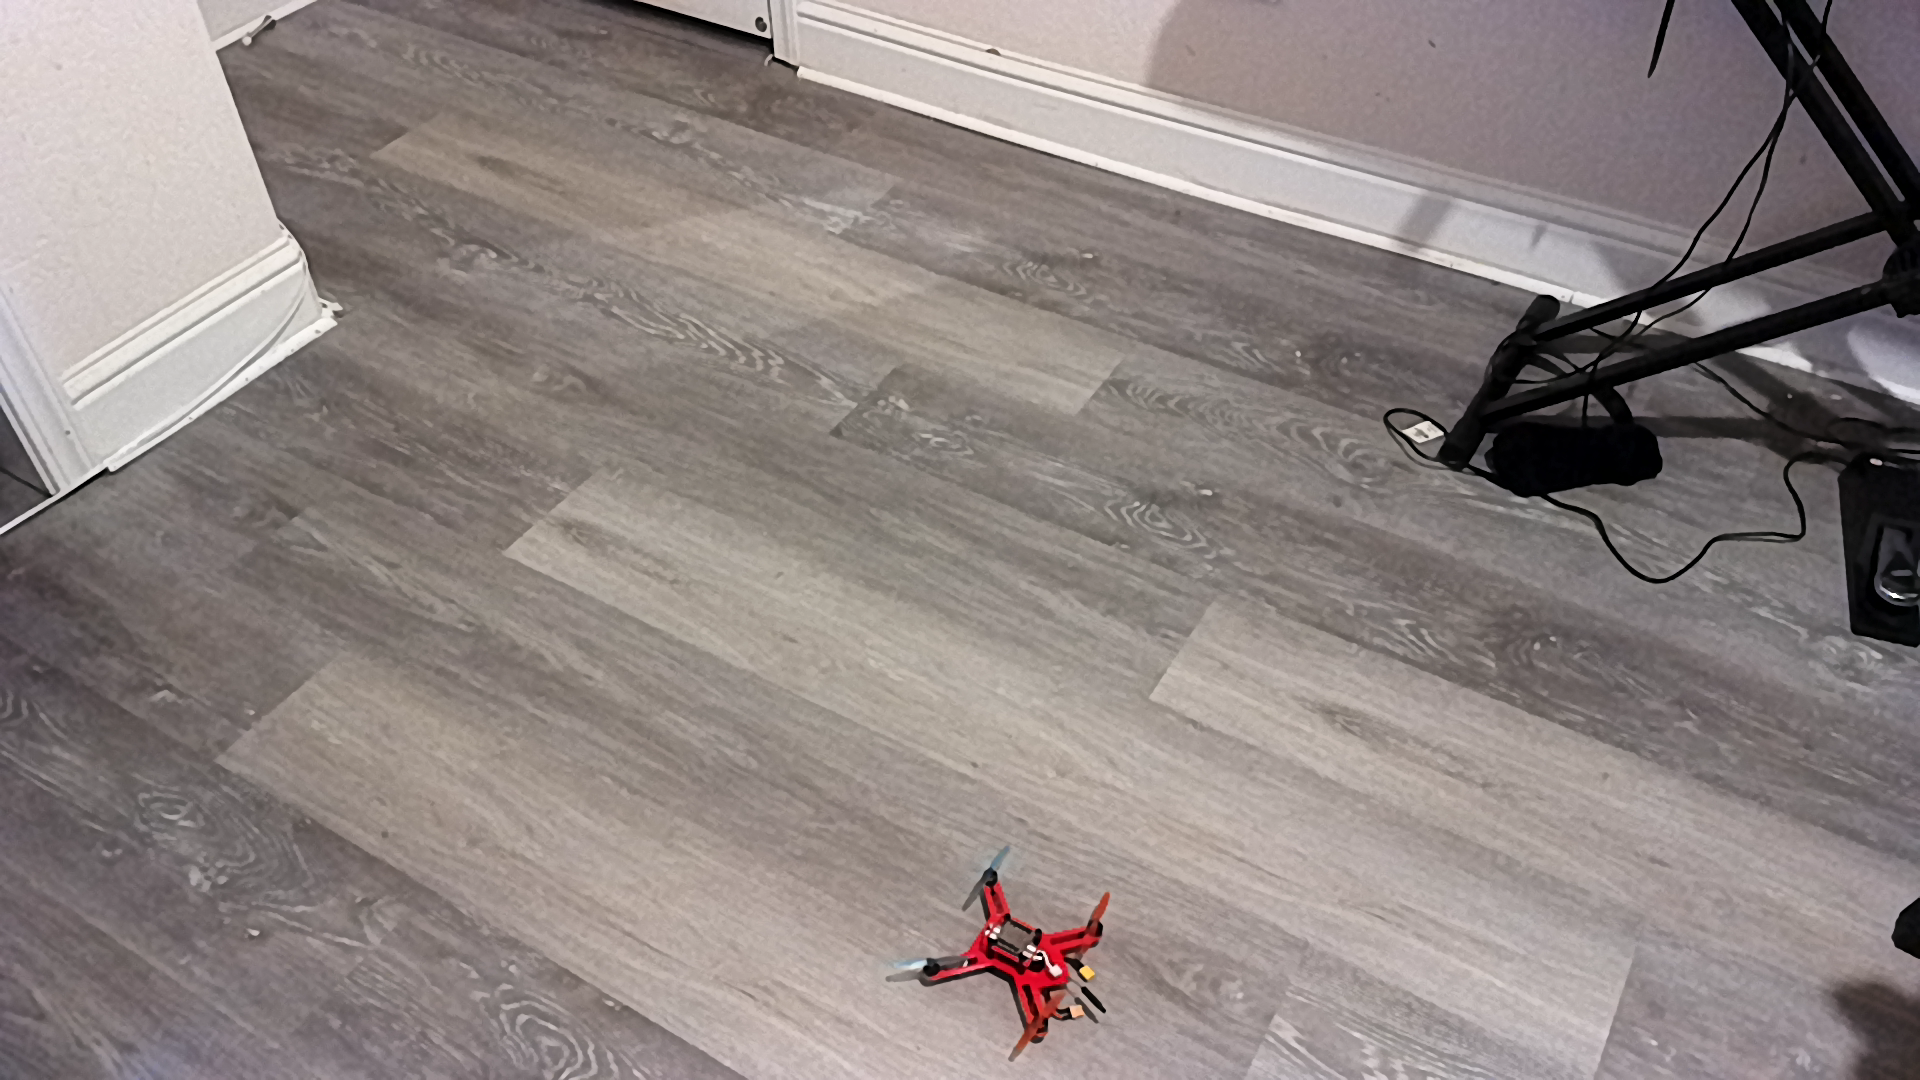drone: (884, 845, 1124, 1063)
